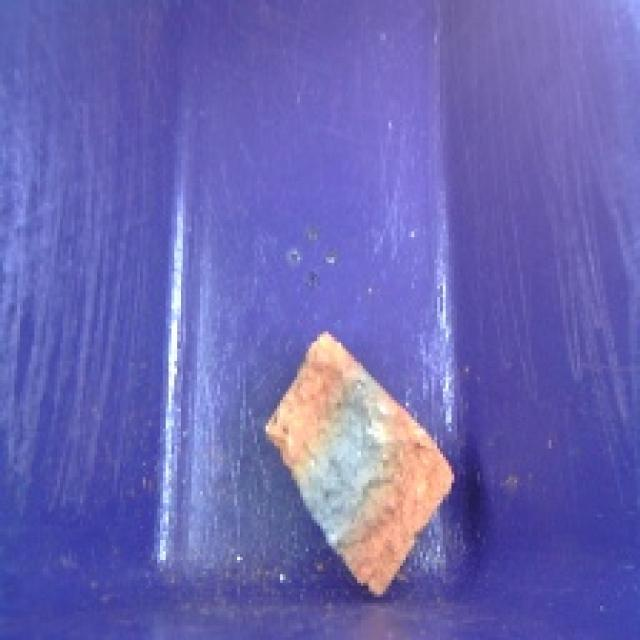brick: (252, 320, 471, 609)
